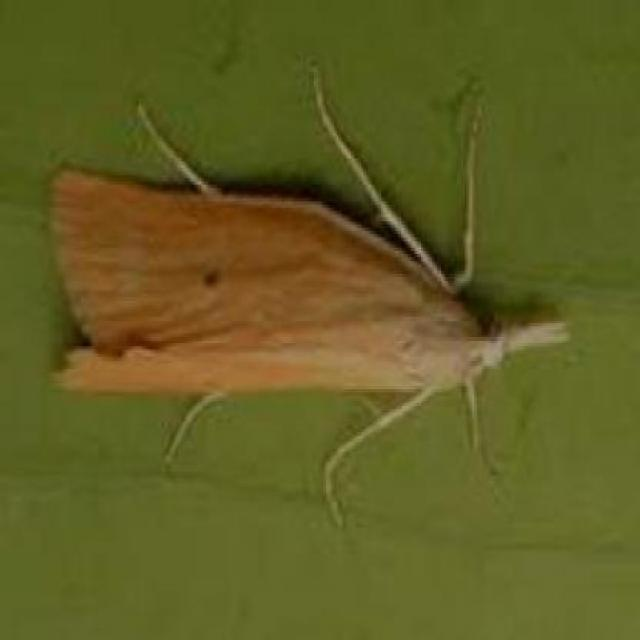stem-borer: (41, 68, 574, 522)
